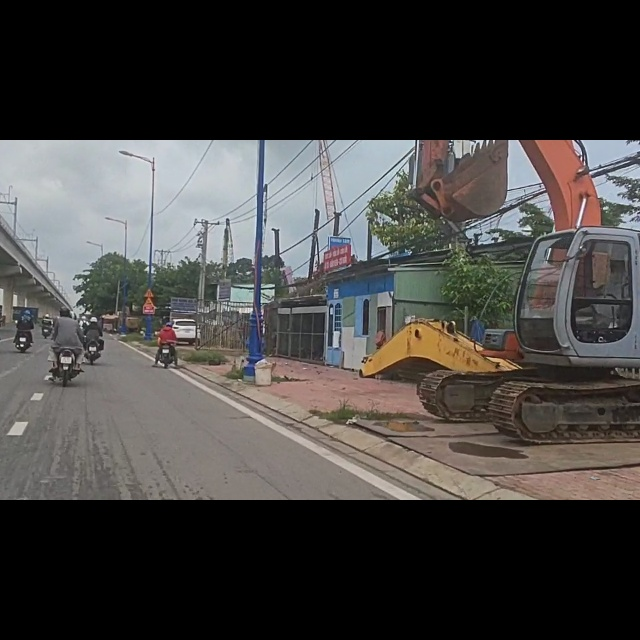bien_nguy_hiem: (143, 262, 155, 281), (142, 279, 155, 295)
